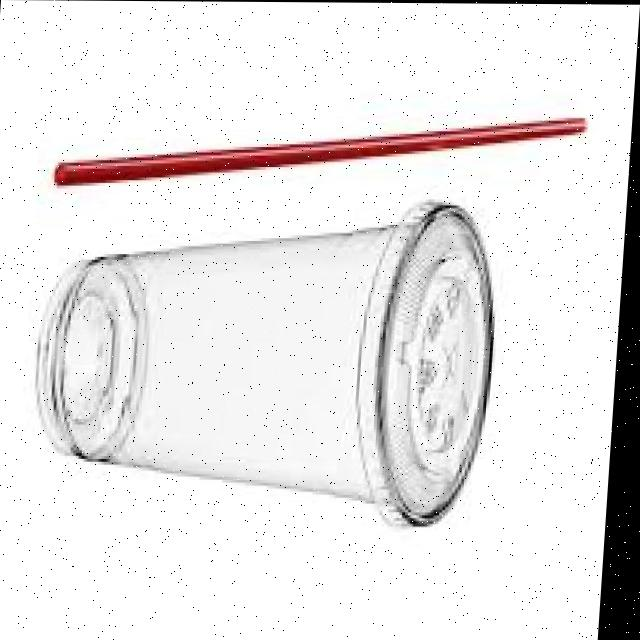cup: (12, 198, 515, 538)
